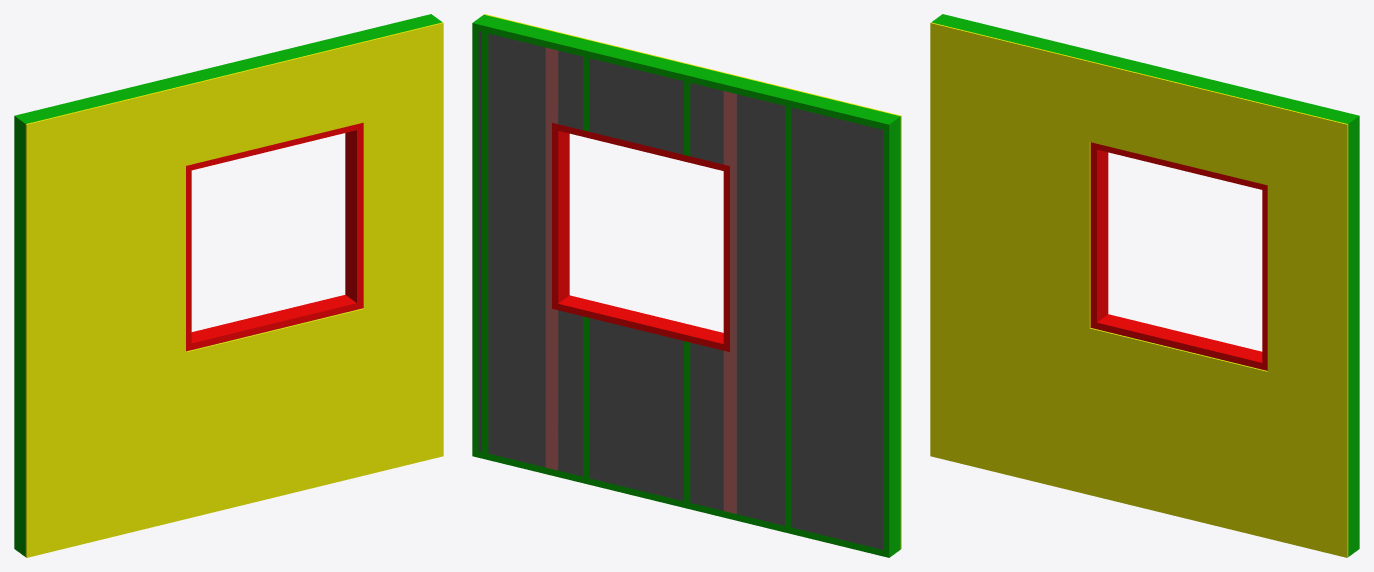
Rendered from result.glb.
The picture shows the model from 3 angles, left to right: view 1: azimuth 30°, elevation 25°; view 2: azimuth 150°, elevation 25°; view 3: azimuth 330°, elevation 25°; orthographic projection.
Visible parts, largest first — view 1: f579214d-5c82-4e3d-8943-0bdbf9df1ef7__undefined, b9b7c4e3-0842-4173-9575-ae143fe4f9df__undefined, b2ce9cf3-3586-429b-9d76-1ec313f16b5c__undefined, 40a9a52d-a18e-461e-8fd8-d7b3cc5278d9__undefined, 972530fc-0679-4a82-9c0e-88fe2b501147__undefined, 6a9b63f7-70c9-428e-8248-03c94b56b52e__undefined, 11431835-7a36-4ce3-b786-a48cd95e8bca__frameBottom, f91e0ec6-e144-4e65-b0ab-3d9c0f69fd93__frameRight, 3f8b5d9d-14e5-49f0-81bf-f0fab7240bac__undefined, ae815197-f1d4-4172-b1a4-0f06a077833a__frameTop, 62cce007-20f2-4507-b35b-1a10f7f3477a__frameLeft, 5843731d-fbee-44d5-8f77-4158eef9a34a__undefined; view 2: 64228f4b-b1ef-4f03-ba29-f8dfea482582__undefined, a8a4ee9c-df97-4ccd-92f7-247ea2f311c1__undefined, f106468c-ee13-4195-bc4c-391cc1b4ead4__undefined, 875b9457-24b8-4080-84cf-e41b1c80bc03__undefined, 6a9b63f7-70c9-428e-8248-03c94b56b52e__undefined, 972530fc-0679-4a82-9c0e-88fe2b501147__undefined, 8d372203-4211-49b8-9a8f-bd2b32718cdb__undefined, e3bf15d6-dbab-4543-aed6-86c6db4dca4a__undefined, 54e51a9a-0538-4e04-ba6a-2b4a17568629__undefined, 6cce292b-f988-4b77-8885-546a073fd2c5__undefined, 11431835-7a36-4ce3-b786-a48cd95e8bca__frameBottom, f91e0ec6-e144-4e65-b0ab-3d9c0f69fd93__frameRight (+15 smaller); view 3: f579214d-5c82-4e3d-8943-0bdbf9df1ef7__undefined, b9b7c4e3-0842-4173-9575-ae143fe4f9df__undefined, b2ce9cf3-3586-429b-9d76-1ec313f16b5c__undefined, 40a9a52d-a18e-461e-8fd8-d7b3cc5278d9__undefined, cee1bfe4-662c-4cfa-a77a-e8aead90d945__undefined, 6a9b63f7-70c9-428e-8248-03c94b56b52e__undefined, 62cce007-20f2-4507-b35b-1a10f7f3477a__frameLeft, 11431835-7a36-4ce3-b786-a48cd95e8bca__frameBottom, 3f8b5d9d-14e5-49f0-81bf-f0fab7240bac__undefined, ae815197-f1d4-4172-b1a4-0f06a077833a__frameTop, f91e0ec6-e144-4e65-b0ab-3d9c0f69fd93__frameRight, 5843731d-fbee-44d5-8f77-4158eef9a34a__undefined.
Boxes of the visible parts, bbox=[...] form: f579214d-5c82-4e3d-8943-0bdbf9df1ef7__undefined: bbox=[25, 96, 185, 557]; b9b7c4e3-0842-4173-9575-ae143fe4f9df__undefined: bbox=[363, 33, 443, 475]; b2ce9cf3-3586-429b-9d76-1ec313f16b5c__undefined: bbox=[186, 308, 363, 518]; 40a9a52d-a18e-461e-8fd8-d7b3cc5278d9__undefined: bbox=[185, 42, 363, 165]; 972530fc-0679-4a82-9c0e-88fe2b501147__undefined: bbox=[14, 122, 25, 550]; 6a9b63f7-70c9-428e-8248-03c94b56b52e__undefined: bbox=[14, 14, 442, 130]; 11431835-7a36-4ce3-b786-a48cd95e8bca__frameBottom: bbox=[186, 294, 362, 351]; f91e0ec6-e144-4e65-b0ab-3d9c0f69fd93__frameRight: bbox=[345, 128, 362, 302]; 3f8b5d9d-14e5-49f0-81bf-f0fab7240bac__undefined: bbox=[25, 85, 185, 134]; ae815197-f1d4-4172-b1a4-0f06a077833a__frameTop: bbox=[186, 123, 362, 171]; 62cce007-20f2-4507-b35b-1a10f7f3477a__frameLeft: bbox=[186, 170, 191, 344]; 5843731d-fbee-44d5-8f77-4158eef9a34a__undefined: bbox=[363, 22, 443, 52]; 64228f4b-b1ef-4f03-ba29-f8dfea482582__undefined: bbox=[791, 107, 882, 549]; a8a4ee9c-df97-4ccd-92f7-247ea2f311c1__undefined: bbox=[488, 33, 545, 467]; f106468c-ee13-4195-bc4c-391cc1b4ead4__undefined: bbox=[736, 94, 784, 525]; 875b9457-24b8-4080-84cf-e41b1c80bc03__undefined: bbox=[589, 318, 683, 501]; 6a9b63f7-70c9-428e-8248-03c94b56b52e__undefined: bbox=[472, 14, 900, 131]; 972530fc-0679-4a82-9c0e-88fe2b501147__undefined: bbox=[883, 123, 900, 551]; 8d372203-4211-49b8-9a8f-bd2b32718cdb__undefined: bbox=[589, 58, 683, 154]; e3bf15d6-dbab-4543-aed6-86c6db4dca4a__undefined: bbox=[690, 342, 723, 510]; 54e51a9a-0538-4e04-ba6a-2b4a17568629__undefined: bbox=[558, 310, 582, 476]; 6cce292b-f988-4b77-8885-546a073fd2c5__undefined: bbox=[472, 449, 900, 557]; 11431835-7a36-4ce3-b786-a48cd95e8bca__frameBottom: bbox=[552, 295, 729, 351]; f91e0ec6-e144-4e65-b0ab-3d9c0f69fd93__frameRight: bbox=[552, 129, 569, 303]; f579214d-5c82-4e3d-8943-0bdbf9df1ef7__undefined: bbox=[930, 33, 1090, 494]; b9b7c4e3-0842-4173-9575-ae143fe4f9df__undefined: bbox=[1267, 116, 1348, 557]; b2ce9cf3-3586-429b-9d76-1ec313f16b5c__undefined: bbox=[1089, 328, 1267, 538]; 40a9a52d-a18e-461e-8fd8-d7b3cc5278d9__undefined: bbox=[1089, 61, 1268, 185]; cee1bfe4-662c-4cfa-a77a-e8aead90d945__undefined: bbox=[1348, 122, 1359, 550]; 6a9b63f7-70c9-428e-8248-03c94b56b52e__undefined: bbox=[931, 14, 1359, 130]; 62cce007-20f2-4507-b35b-1a10f7f3477a__frameLeft: bbox=[1090, 148, 1108, 322]; 11431835-7a36-4ce3-b786-a48cd95e8bca__frameBottom: bbox=[1090, 314, 1267, 370]; 3f8b5d9d-14e5-49f0-81bf-f0fab7240bac__undefined: bbox=[930, 22, 1089, 72]; ae815197-f1d4-4172-b1a4-0f06a077833a__frameTop: bbox=[1090, 142, 1267, 191]; f91e0ec6-e144-4e65-b0ab-3d9c0f69fd93__frameRight: bbox=[1262, 190, 1267, 363]; 5843731d-fbee-44d5-8f77-4158eef9a34a__undefined: bbox=[1267, 105, 1348, 134].
Bounding box in the file's own units: 2518 × 2500 × 129.
